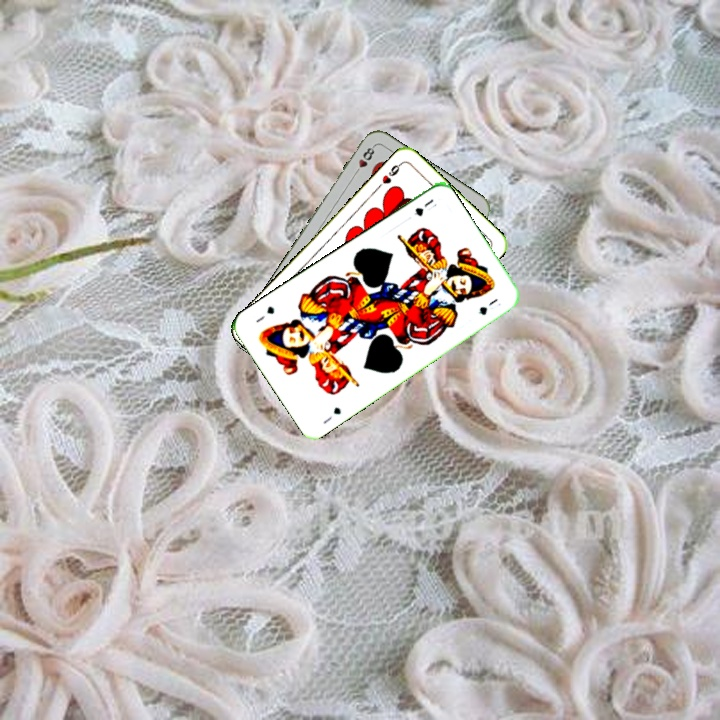GU: (411, 195, 440, 219), (319, 403, 344, 427)
H8: (350, 142, 377, 178)
H9: (373, 159, 405, 191)
